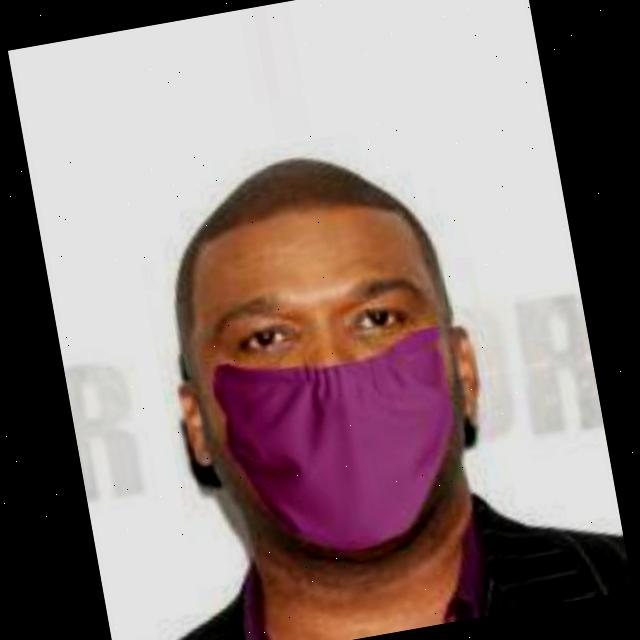suspicion: (137, 99, 518, 577)
